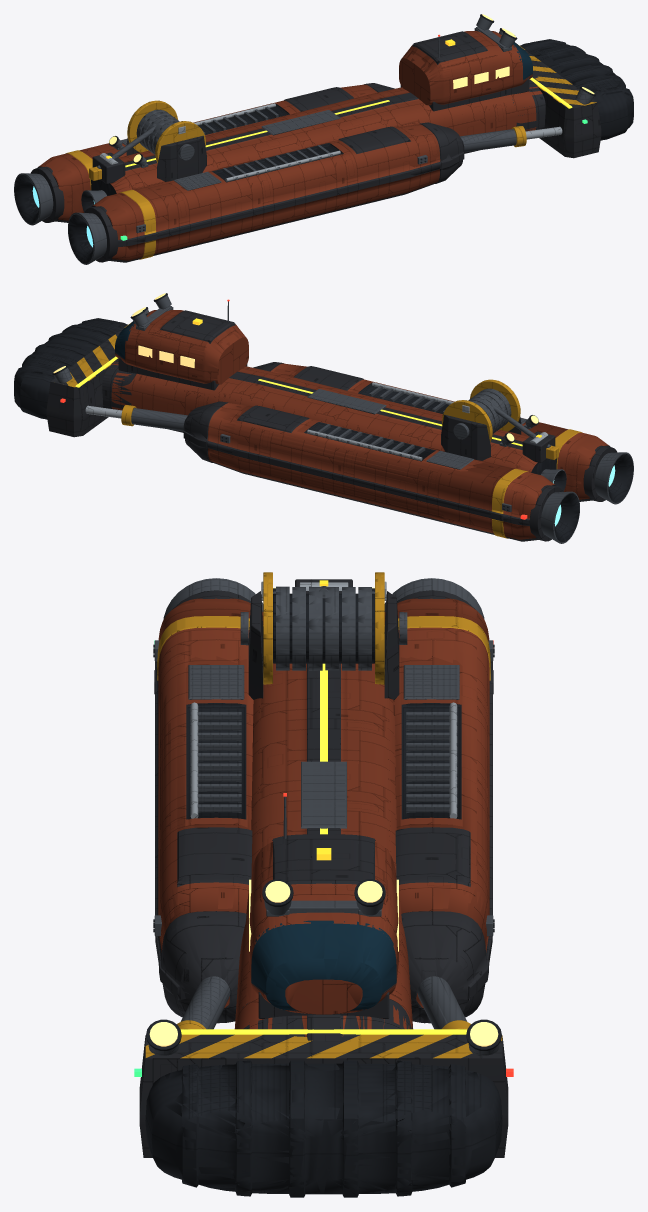
Rendered from yard_tug.glb.
The picture shows the model from 3 angles, top to bottom: view 1: azimuth 30°, elevation 25°; view 2: azimuth 150°, elevation 25°; view 3: azimuth 270°, elevation 25°; orthographic projection. The views are drawn at different scales.
Visible parts, largest first — view 1: LOD0_Hull, LOD1_Hull, LOD0_Armor, LOD0_Mechanical, LOD2_Hull, LOD0_MechanicalDark, LOD1_MechanicalDark, LOD1_Armor, LOD2_MechanicalDark, LOD0_Warning, LOD1_Mechanical, LOD0_MOTION_YARD_TUG_WINCH_Warning (+8 smaller); view 2: LOD0_Hull, LOD1_Hull, LOD0_Armor, LOD0_Mechanical, LOD2_Hull, LOD0_MechanicalDark, LOD1_MechanicalDark, LOD1_Armor, LOD2_MechanicalDark, LOD0_Warning, LOD1_Mechanical, LOD0_HOOK_ARMOR_WINCH_Armor (+8 smaller); view 3: LOD0_Armor, LOD0_Hull, LOD1_Hull, LOD1_MechanicalDark, LOD0_Mechanical, LOD0_MechanicalDark, LOD2_Hull, LOD2_MechanicalDark, LOD1_Mechanical, LOD0_Warning, LOD0_MOTION_YARD_TUG_WINCH_Mechanical, LOD0_CANOPY (+14 smaller).
Part boxes in pixels (x1,y1,x2,y2): LOD0_Hull: (38, 31, 536, 260); LOD1_Hull: (47, 31, 535, 260); LOD0_Armor: (30, 31, 601, 262); LOD0_Mechanical: (14, 16, 593, 264); LOD2_Hull: (79, 31, 542, 203); LOD0_MechanicalDark: (14, 14, 633, 262); LOD1_MechanicalDark: (19, 14, 633, 261); LOD1_Armor: (38, 43, 574, 262); LOD2_MechanicalDark: (14, 39, 632, 263); LOD0_Warning: (65, 45, 596, 259); LOD1_Mechanical: (14, 26, 591, 258); LOD0_MOTION_YARD_TUG_WINCH_Warning: (127, 100, 205, 162); LOD0_Hull: (111, 310, 609, 539); LOD1_Hull: (112, 310, 600, 539); LOD0_Armor: (46, 310, 617, 541); LOD0_Mechanical: (54, 295, 633, 543); LOD2_Hull: (109, 310, 567, 483); LOD0_MechanicalDark: (14, 293, 633, 541); LOD1_MechanicalDark: (14, 295, 627, 540); LOD1_Armor: (73, 322, 609, 541); LOD2_MechanicalDark: (15, 318, 633, 542); LOD0_Warning: (66, 323, 582, 538); LOD1_Mechanical: (64, 299, 633, 542); LOD0_HOOK_ARMOR_WINCH_Armor: (441, 414, 490, 460); LOD0_Armor: (139, 590, 508, 1157); LOD0_Hull: (158, 598, 489, 1029); LOD1_Hull: (158, 600, 489, 1036); LOD1_MechanicalDark: (145, 590, 502, 1195); LOD0_Mechanical: (148, 578, 499, 1055); LOD0_MechanicalDark: (145, 588, 502, 1197); LOD2_Hull: (171, 628, 470, 1029); LOD2_MechanicalDark: (155, 1060, 483, 1196); LOD1_Mechanical: (155, 578, 492, 1022); LOD0_Warning: (145, 616, 502, 1058); LOD0_MOTION_YARD_TUG_WINCH_Mechanical: (240, 587, 407, 670); LOD0_CANOPY: (251, 920, 395, 1010).
Size of what is drawn, in the model's own units: 26.29 by 5.79 by 7.82.
13 materials, 6 textured.
